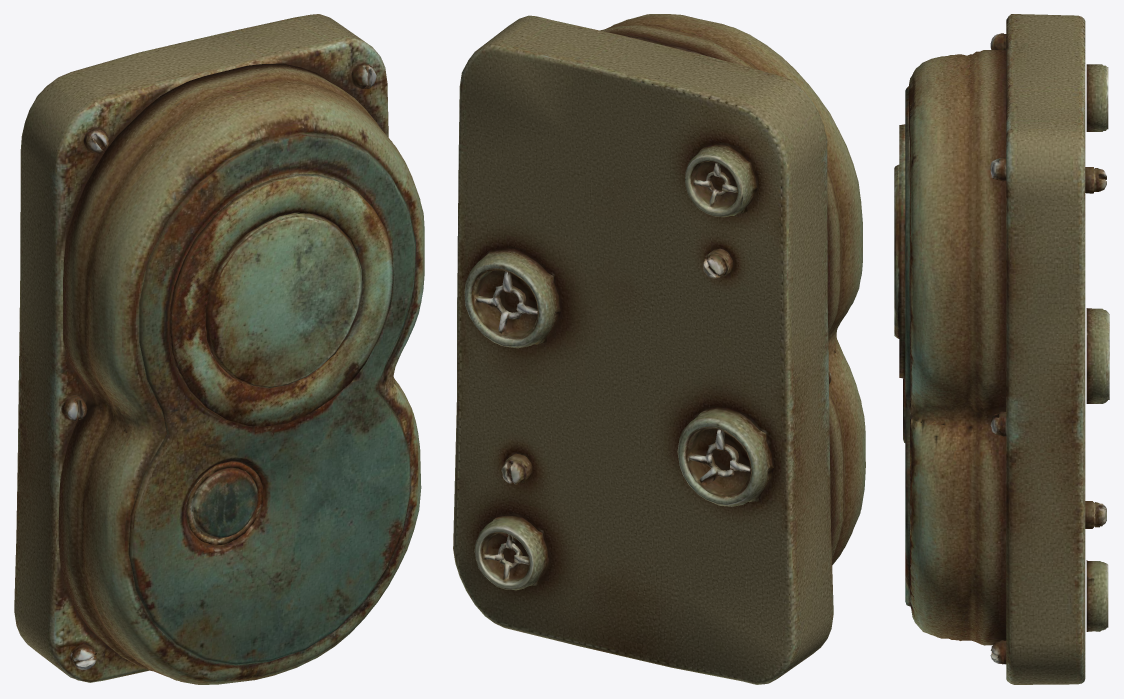
The model's file is hard-drive-relic.glb.
The picture shows the model from 3 angles, left to right: view 1: azimuth 30°, elevation 25°; view 2: azimuth 150°, elevation 25°; view 3: azimuth 270°, elevation 25°; orthographic projection. The views are drawn at different scales.
Visible parts, largest first — view 1: Hard drive relic; view 2: Hard drive relic; view 3: Hard drive relic.
Part boxes in pixels (x1=…): Hard drive relic: x1=14, y1=14, x2=424, y2=684; Hard drive relic: x1=453, y1=14, x2=865, y2=684; Hard drive relic: x1=894, y1=14, x2=1109, y2=684.
Size of the model in its own units: 0.0906 by 0.147 by 0.0515.
1 material, 1 textured.
